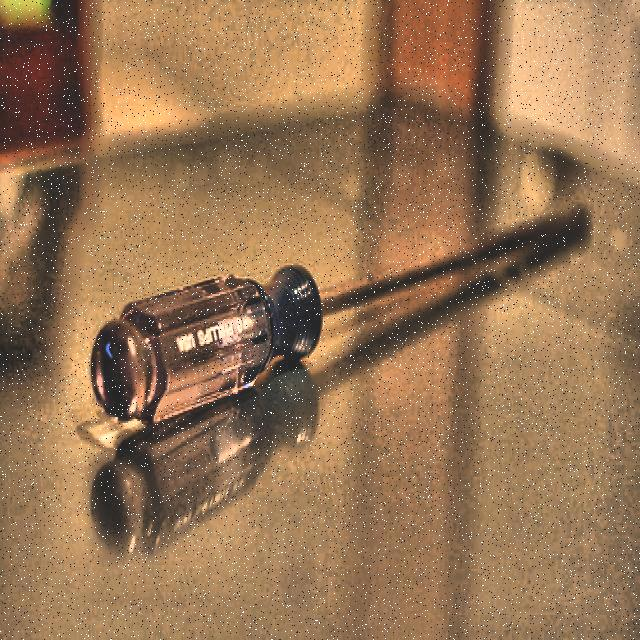screwdriver: (92, 212, 587, 425)
